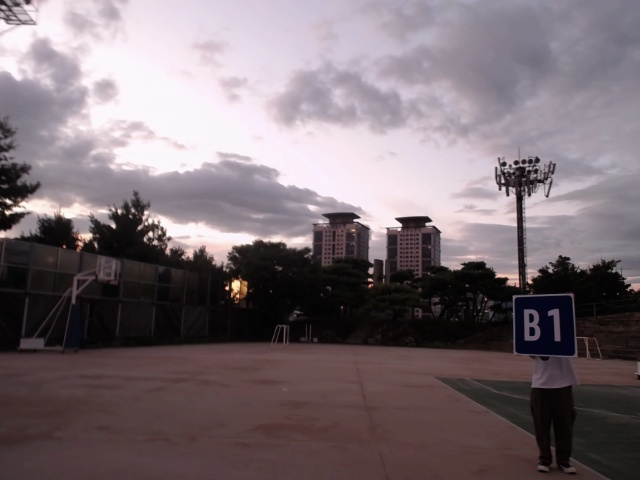delivery_b1: (512, 294, 577, 358)
